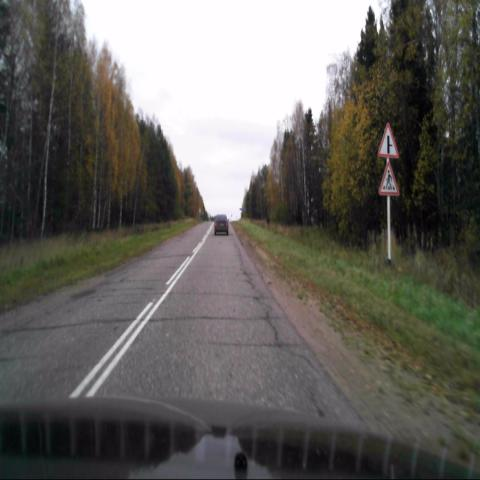1_22: (379, 160, 400, 196)
2_3_2: (378, 122, 398, 159)
